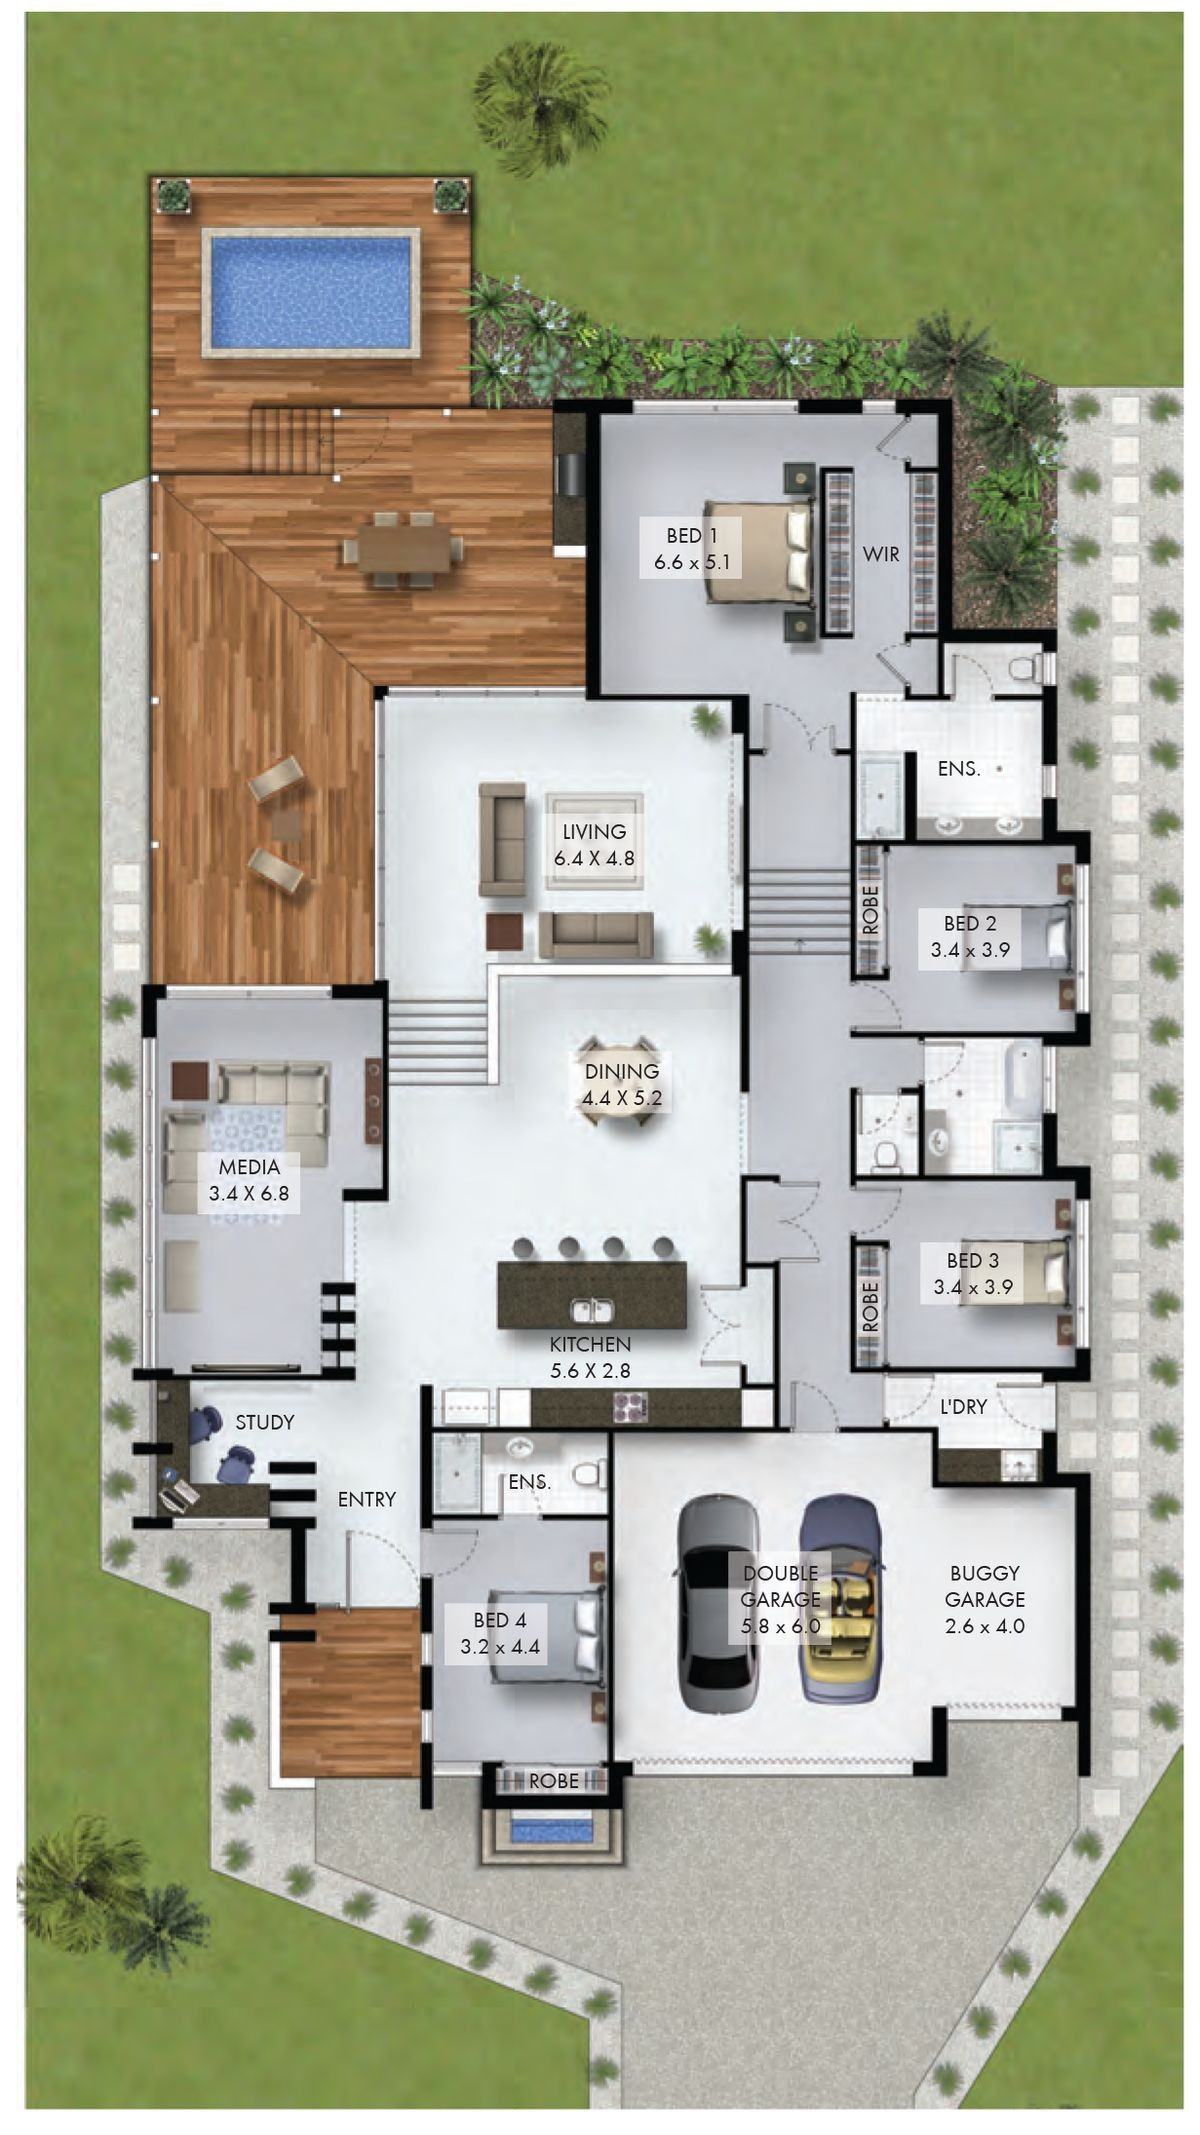room: (374, 679, 750, 1232), (582, 393, 946, 705), (142, 980, 380, 1381), (409, 1235, 780, 1436), (417, 1507, 623, 1811), (842, 834, 1094, 1040), (846, 1175, 1094, 1377), (846, 685, 1059, 850), (841, 1028, 1065, 1185), (142, 1370, 351, 1534), (414, 1425, 619, 1525), (933, 628, 1059, 702)
